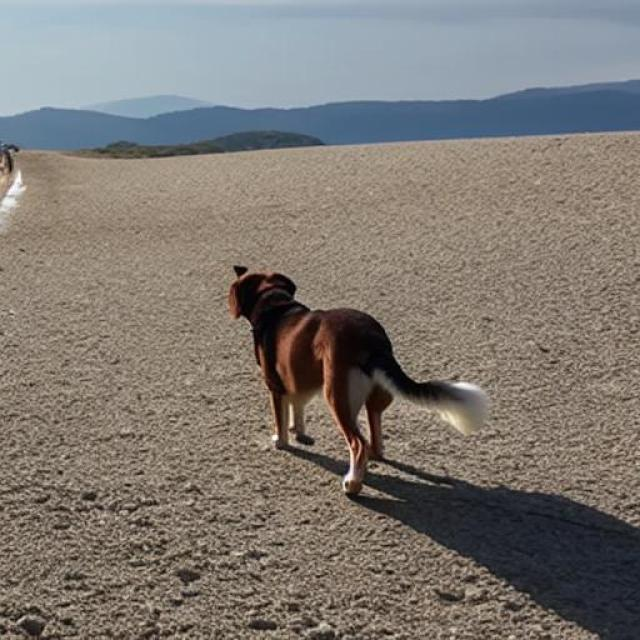Dog: (228, 265, 489, 496)
